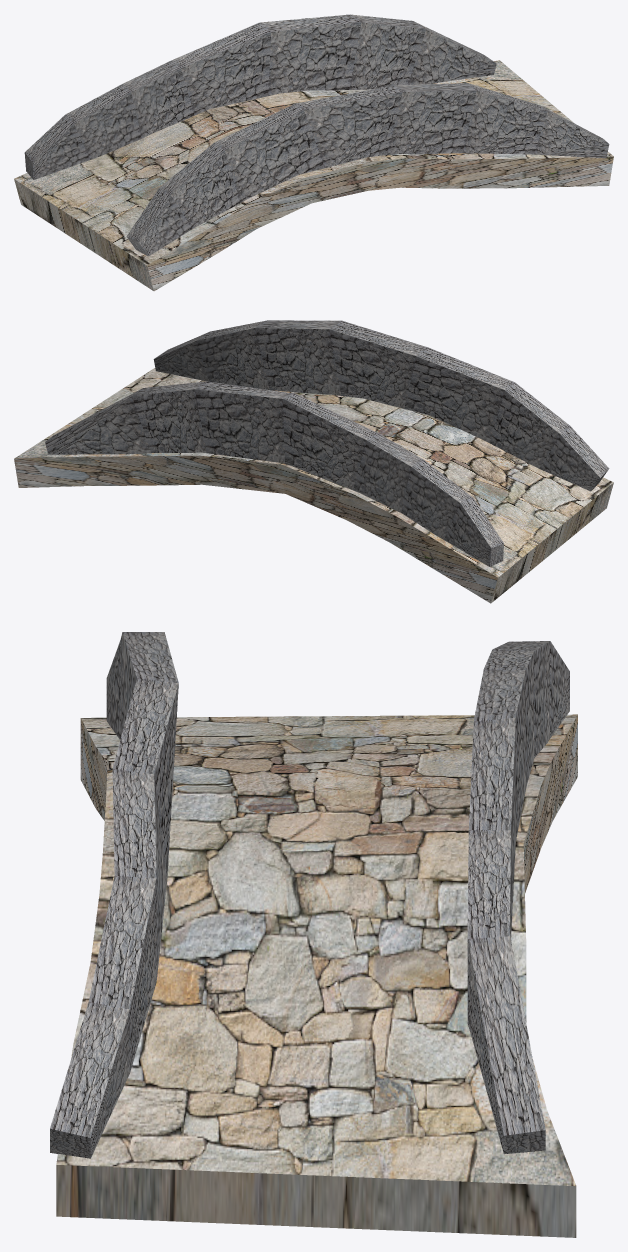
File: ko'prik.fbx
The picture shows the model from 3 angles, top to bottom: view 1: azimuth 30°, elevation 25°; view 2: azimuth 150°, elevation 25°; view 3: azimuth 270°, elevation 25°; orthographic projection. The views are drawn at different scales.
Visible parts, largest first — view 1: Line004, Line002, Line003; view 2: Line004, Line003, Line002; view 3: Line004, Line002, Line003.
Part boxes in pixels (bbox=[...]): Line004: bbox=[14, 60, 613, 291]; Line002: bbox=[126, 83, 609, 256]; Line003: bbox=[24, 14, 496, 179]; Line004: bbox=[14, 368, 613, 603]; Line003: bbox=[45, 381, 503, 566]; Line002: bbox=[153, 320, 609, 491]; Line004: bbox=[56, 714, 577, 1237]; Line002: bbox=[50, 632, 178, 1158]; Line003: bbox=[467, 641, 569, 1154].
Bounding box in the file's own units: 560 × 153 × 264.
3 materials, 3 textured.
